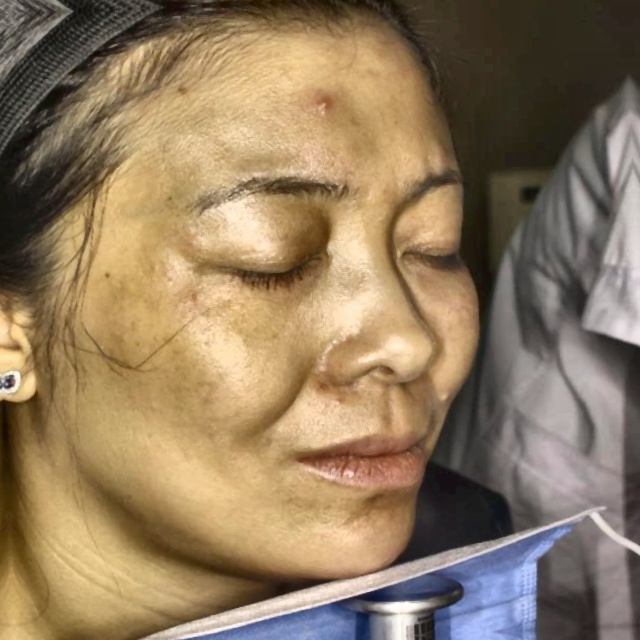comedone: (310, 89, 340, 121)
